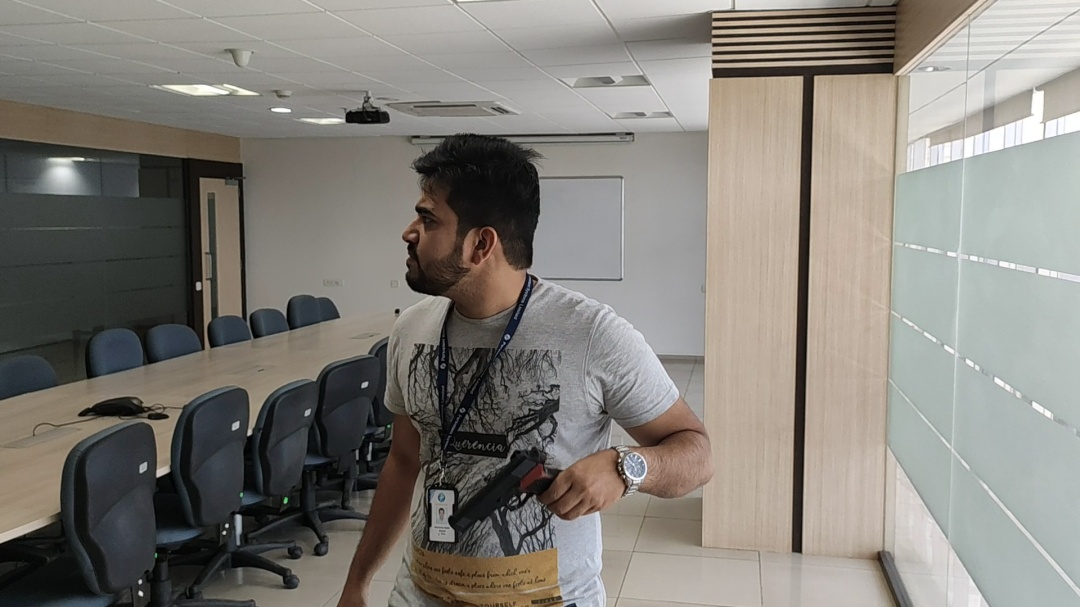gun: (447, 447, 563, 530)
